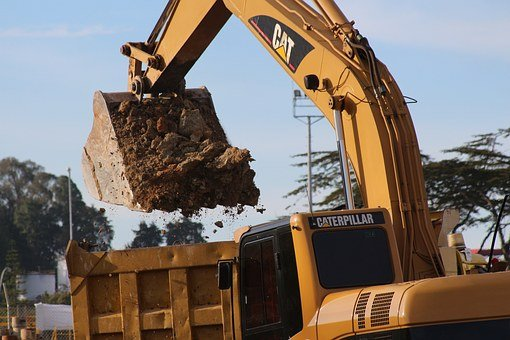excavator: (63, 2, 510, 340)
